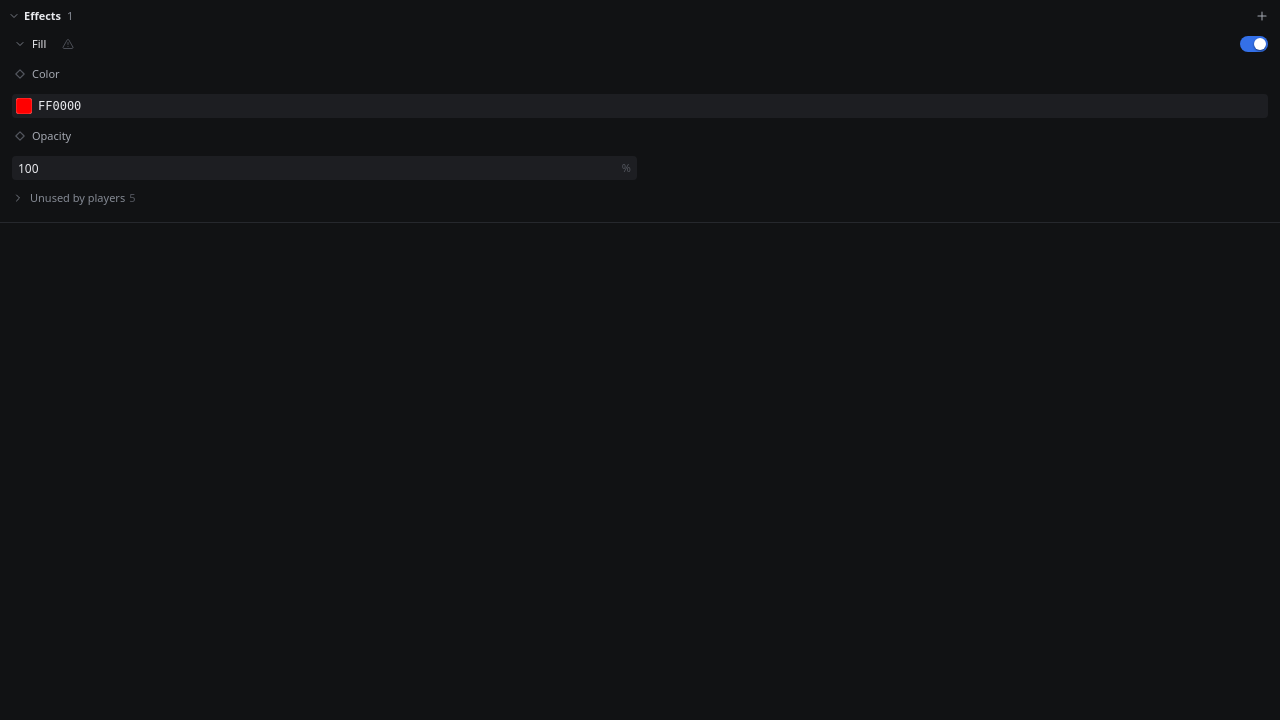
EffectsSection › tucks away the parameters players ignore
Check: the text "Horizontal feather" is not shown
What coordinates should you click on to do the following:
click the text "Unused by players"
I would click on:
 (78, 198)
Its box is [30,190,125,206].
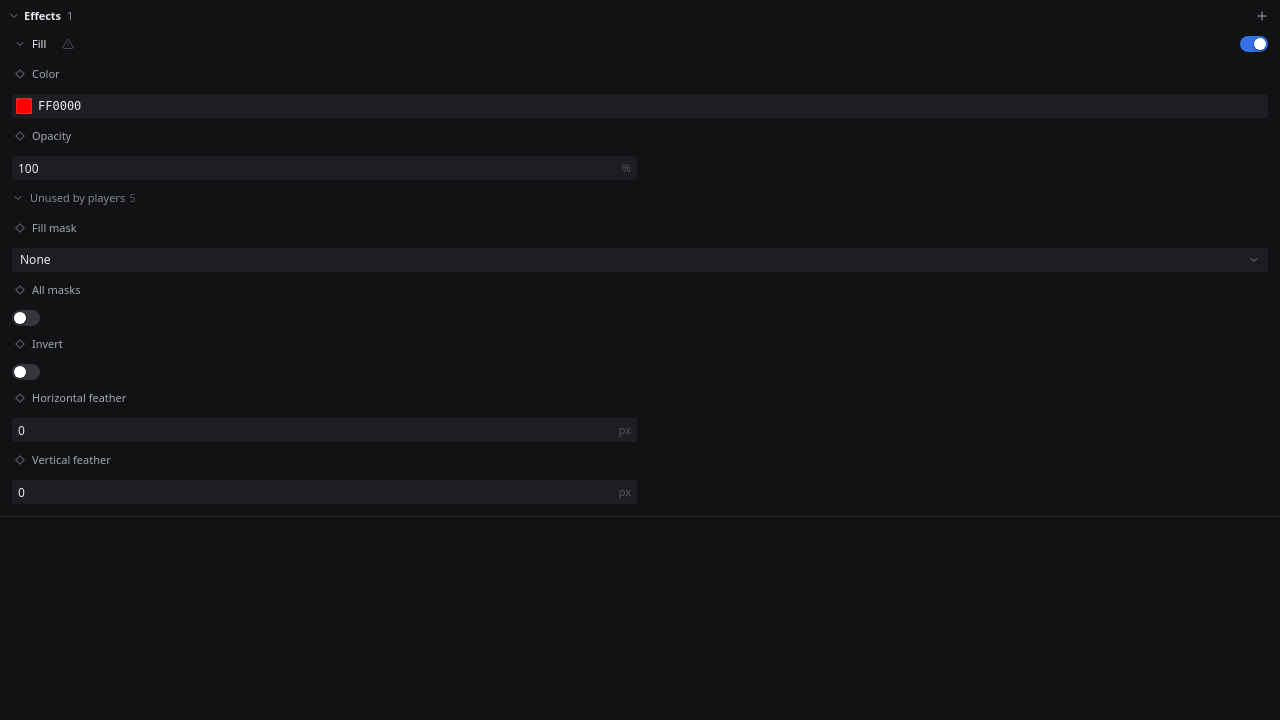
Check: the text "Horizontal feather" is shown, box [32,390,126,405]
